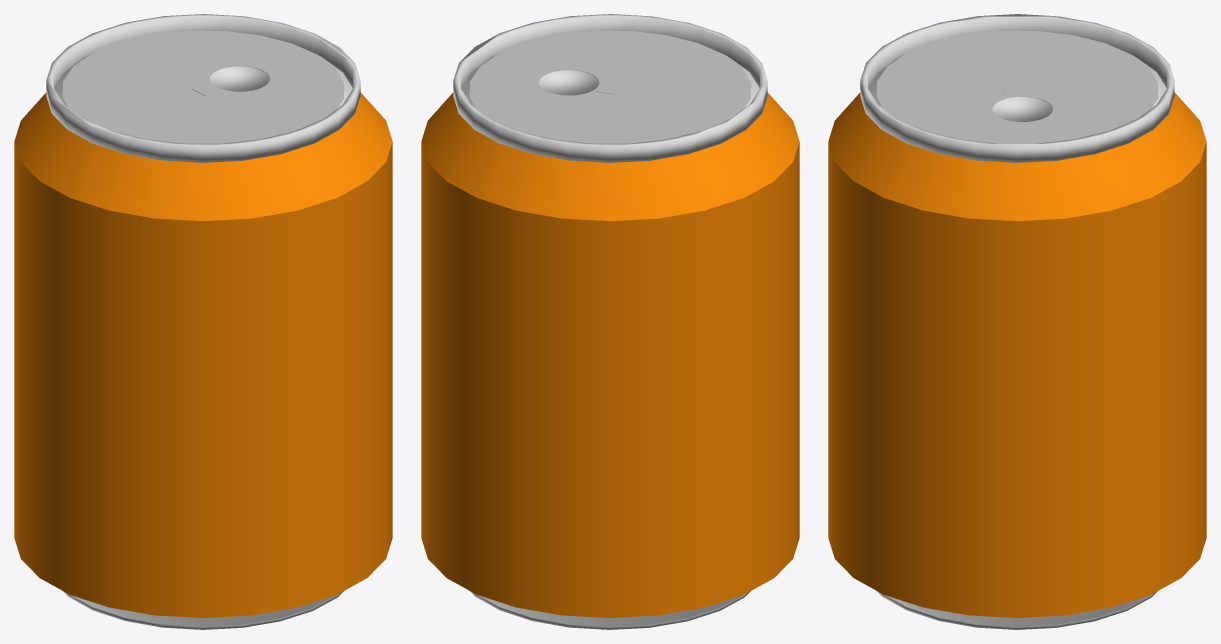
3 views of the same model, side by side, from view 1: azimuth 30°, elevation 25°; view 2: azimuth 150°, elevation 25°; view 3: azimuth 270°, elevation 25° (orthographic).
Visible parts, largest first — view 1: SketchUp (×7); view 2: SketchUp (×7); view 3: SketchUp (×7).
Boxes of the visible parts, x1,y1,x2,y2 form: SketchUp (×7): [14, 14, 392, 629]; SketchUp (×7): [421, 14, 799, 629]; SketchUp (×7): [828, 14, 1206, 629].
Bounding box in the file's own units: 147 × 147 × 208.
